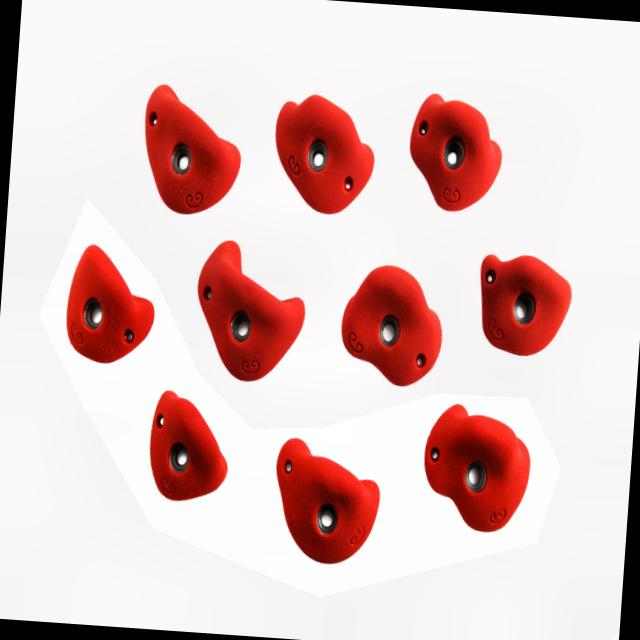Hold: (193, 235, 310, 388), (418, 402, 534, 533), (268, 433, 382, 565), (140, 85, 247, 222), (269, 89, 380, 220), (337, 261, 445, 391), (62, 238, 159, 368), (404, 90, 504, 216), (144, 384, 236, 510), (469, 250, 574, 360)
